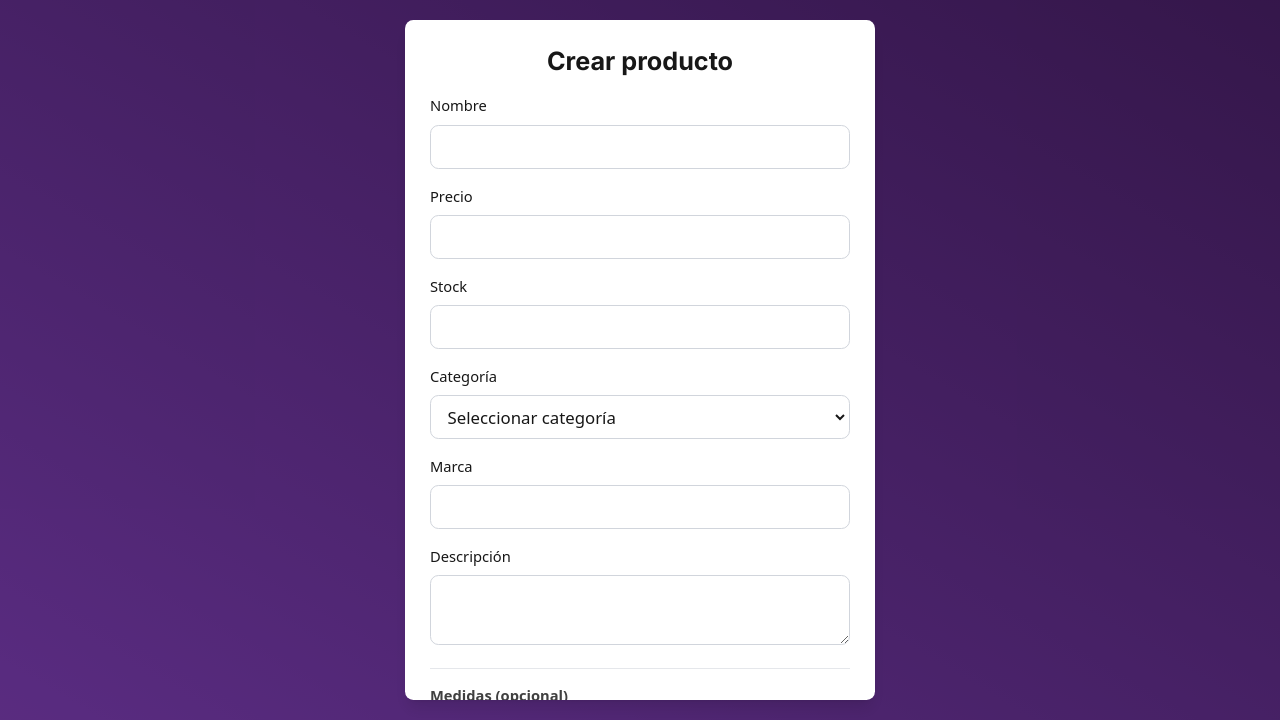
Test: ProductModal › shows an error when submitting with no valid images
Type "Remera" into the field labelled "Nombre" at (640, 147), box x1=430 y1=125 x2=850 y2=169
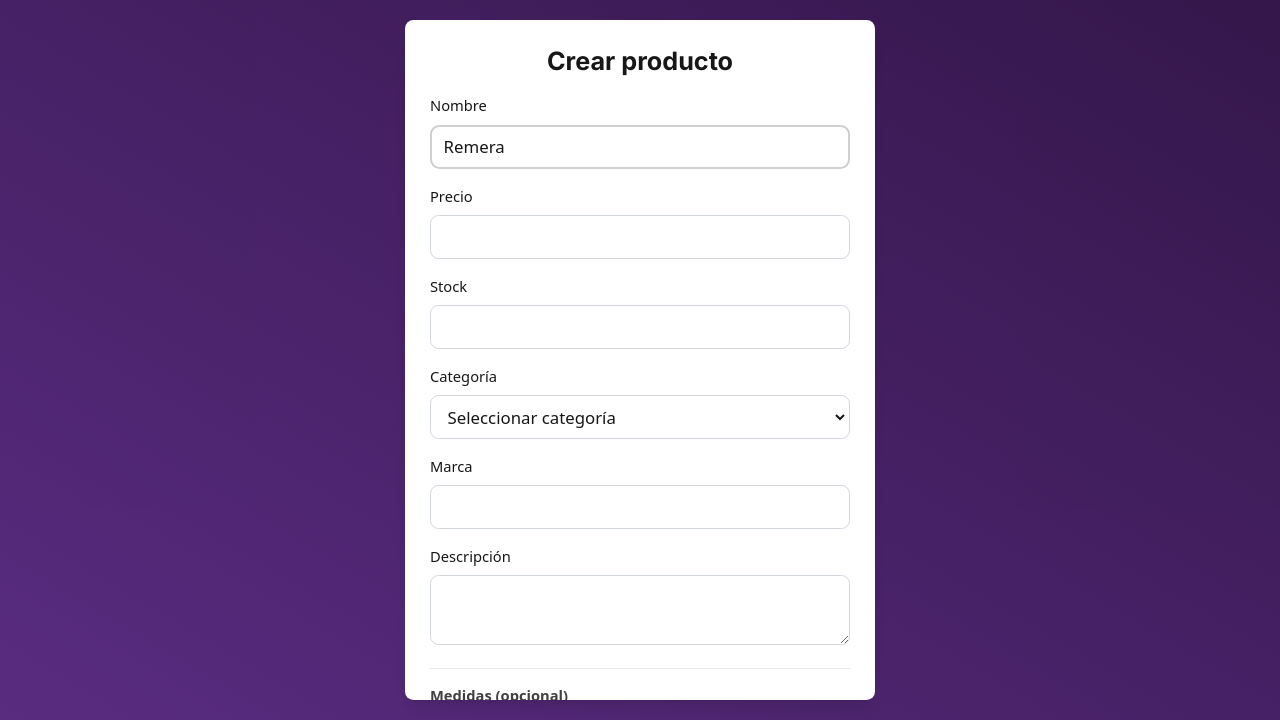
Type "25000" into the number field labelled "Precio" at (640, 237), box x1=430 y1=215 x2=850 y2=259
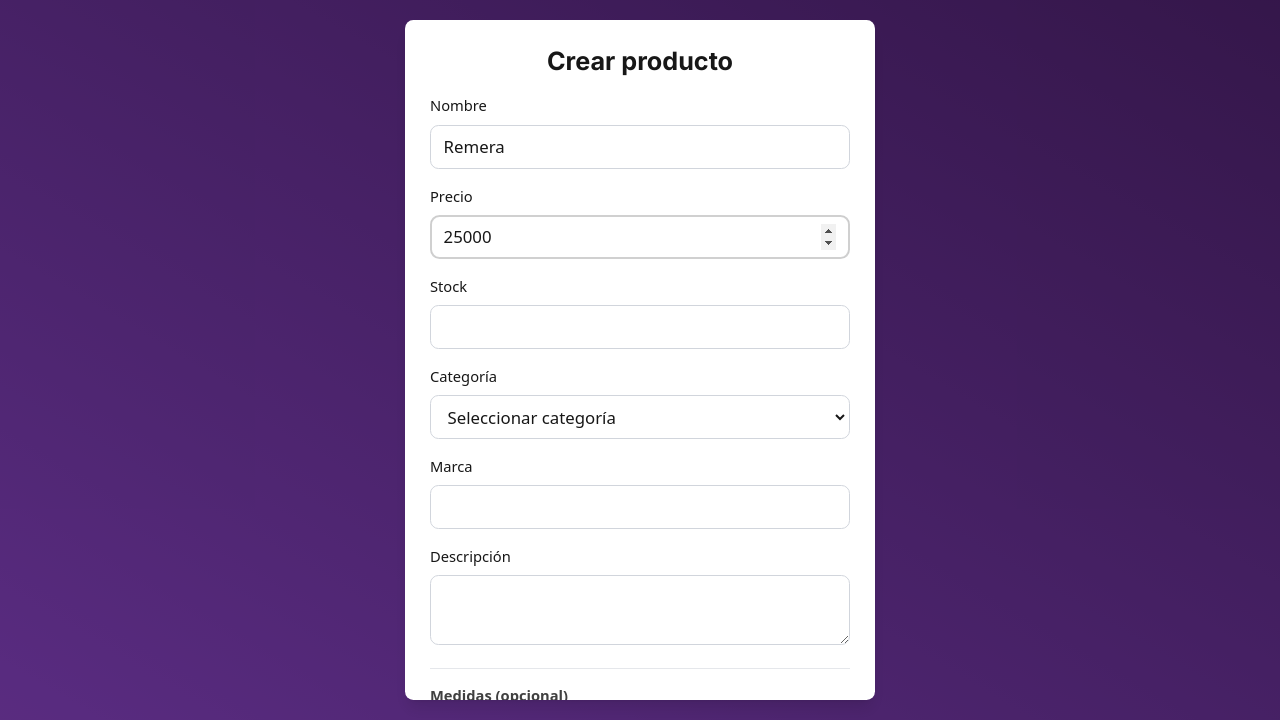
Type "10" into the number field labelled "Stock" at (640, 327), box x1=430 y1=305 x2=850 y2=349
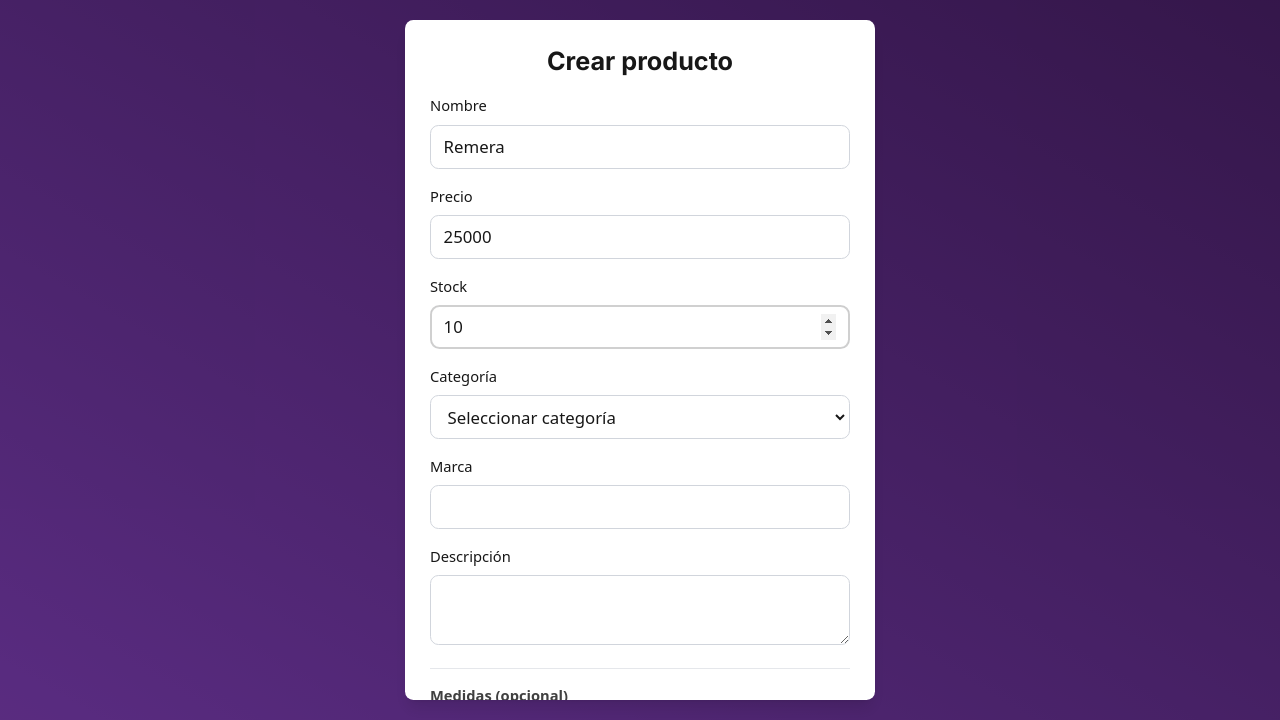
Select "Ropa" in the dropdown labelled "Categoría" at (640, 417), box x1=430 y1=395 x2=850 y2=439
(page scrolled)
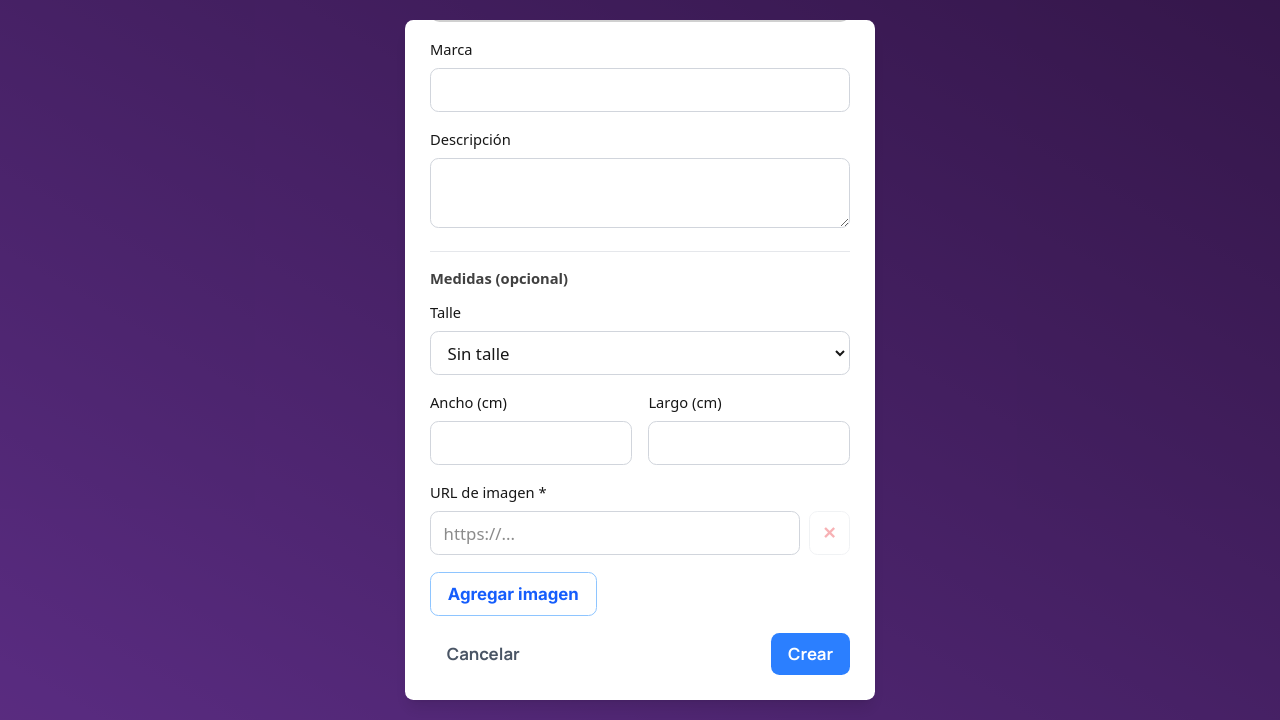
Click the button "Crear" at (811, 654), box x1=771 y1=633 x2=850 y2=675
(page scrolled)
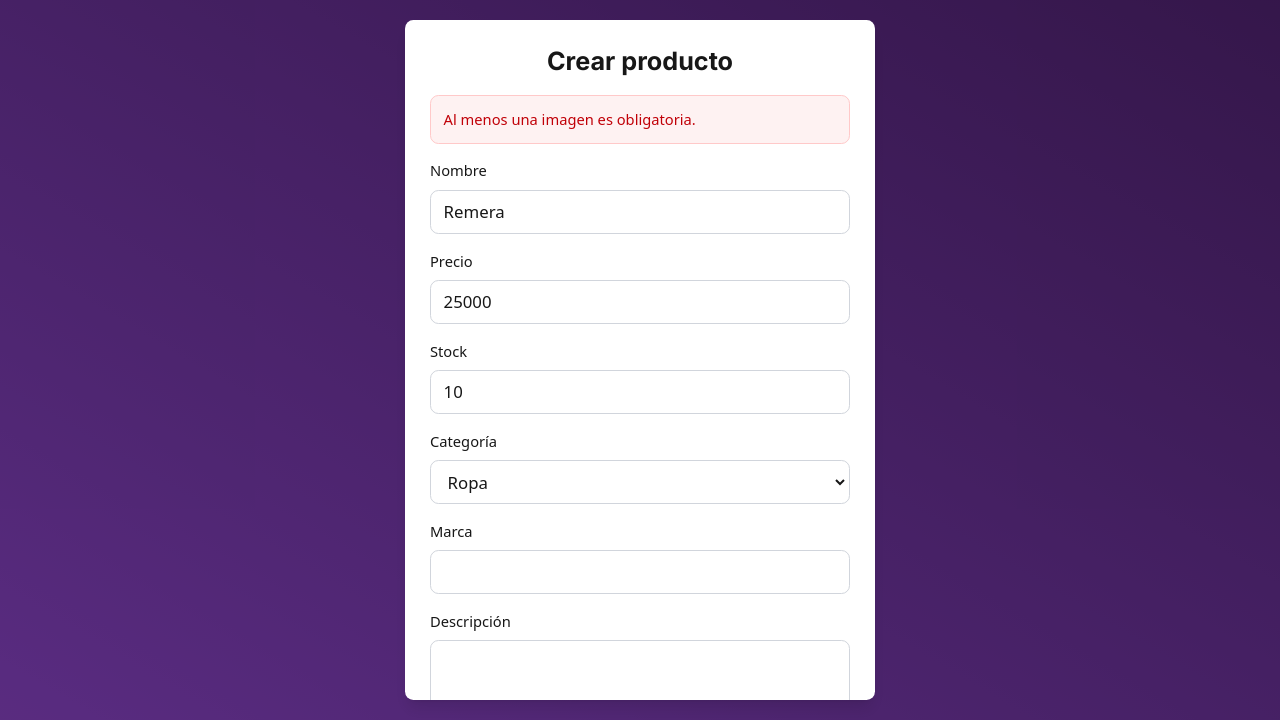
Now the text "Al menos una imagen es obligatoria." is shown, box x1=430 y1=95 x2=850 y2=144
